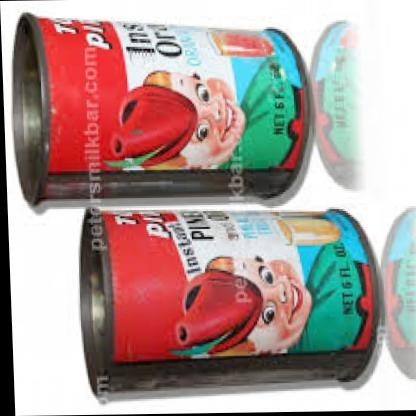trash: (13, 14, 311, 203), (81, 209, 378, 394), (312, 21, 359, 188), (383, 208, 415, 377)
